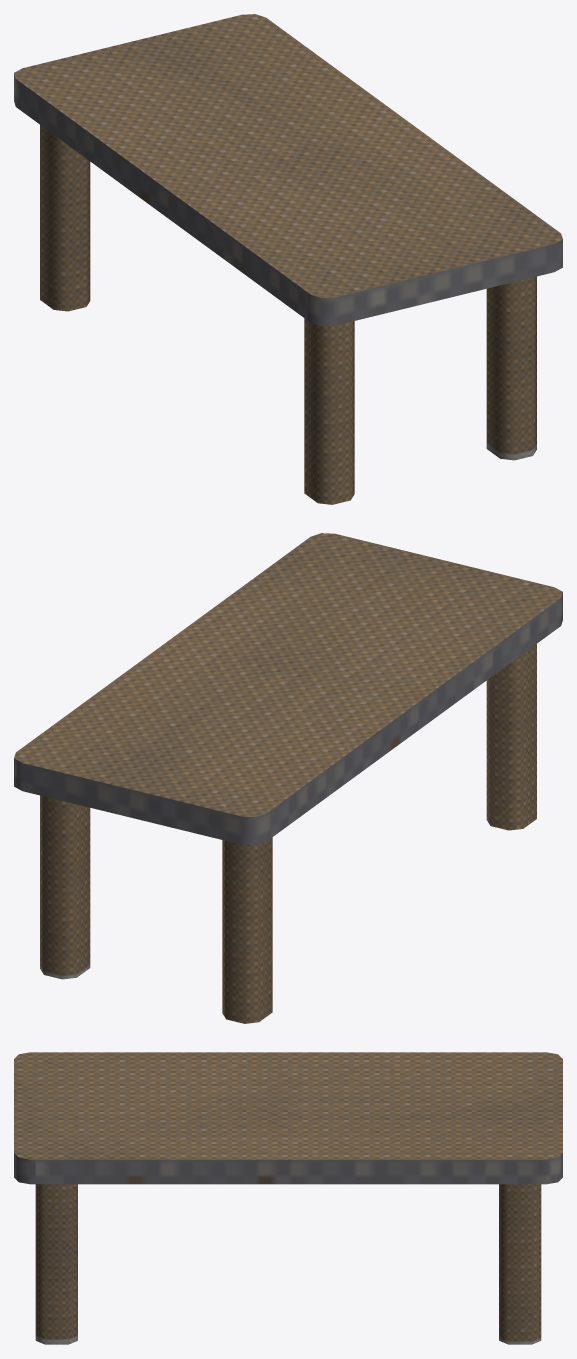
File: table2.fbx
The picture shows the model from 3 angles, top to bottom: view 1: azimuth 30°, elevation 25°; view 2: azimuth 150°, elevation 25°; view 3: azimuth 270°, elevation 25°; orthographic projection. The views are drawn at different scales.
Parts seen in each view (by area): view 1: table2; view 2: table2; view 3: table2.
Part boxes in pixels (x1,y1,x2,y2): table2: (14, 14, 562, 504); table2: (14, 533, 562, 1023); table2: (14, 1052, 562, 1344).
Size of the model in its own units: 3.98 by 3.32 by 8.61.
